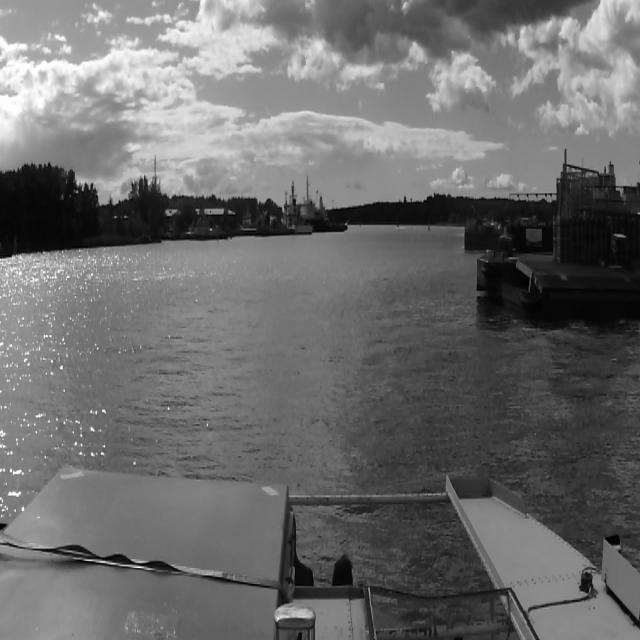buoy: (427, 220, 431, 232), (396, 218, 399, 229), (359, 222, 361, 230)
ship: (276, 180, 312, 238), (299, 169, 331, 223)
